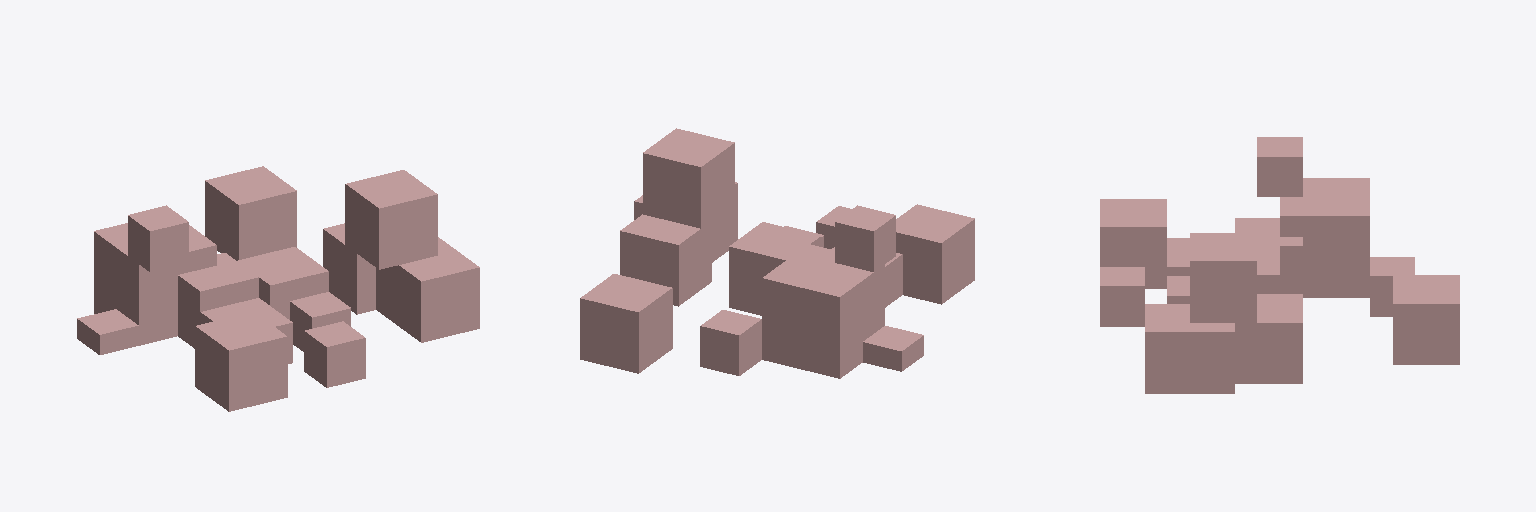
3 views of the same model, side by side, from view 1: azimuth 30°, elevation 25°; view 2: azimuth 150°, elevation 25°; view 3: azimuth 270°, elevation 25° (orthographic).
Size of the model in its own units: 16 by 6 by 16.
Materials: 1 (1 with a texture image).